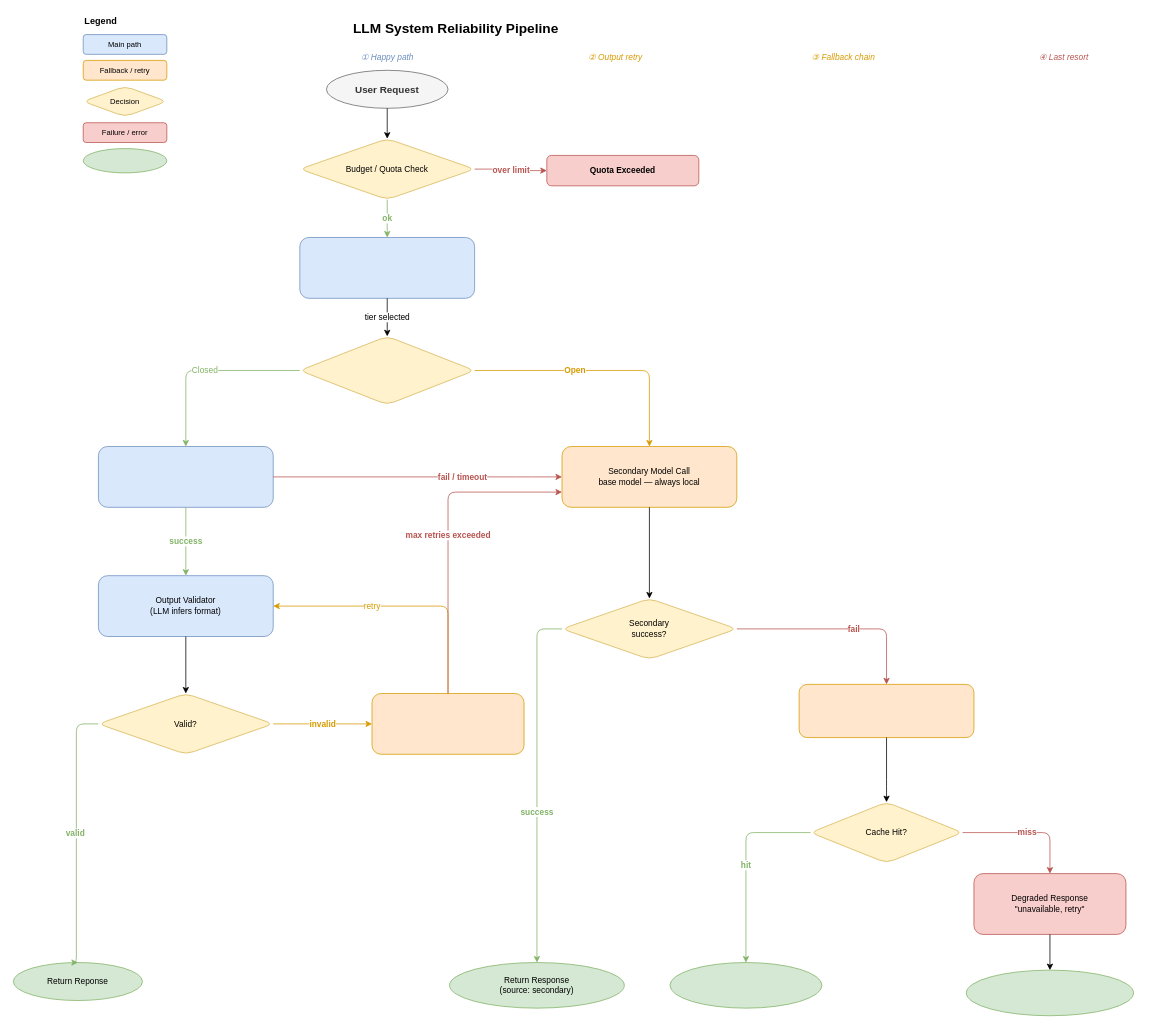
Image size: 1153x1029. Some labels were removed from this diagram. Each missing label, with the centre of its shape:
"Cache Lookup (exact-match)" goes at (x=886, y=711).
"Circuit Breaker (per provider)" goes at (x=387, y=370).
"Primary Model Call (model timeout : retry ≤ 2×)" goes at (x=185, y=476).
"Return" goes at (x=124, y=160).
"Return Cached (stale warning logged)" goes at (x=745, y=985).
"Return Response (always returns something)" goes at (x=1050, y=992).
"Tier Router Classify: FAST · MID · DEEP How : Keyword / LLM judge" goes at (x=387, y=267).
"Tighten prompt (append failure reason retry validator ≤ 3×)" goes at (x=447, y=723).
